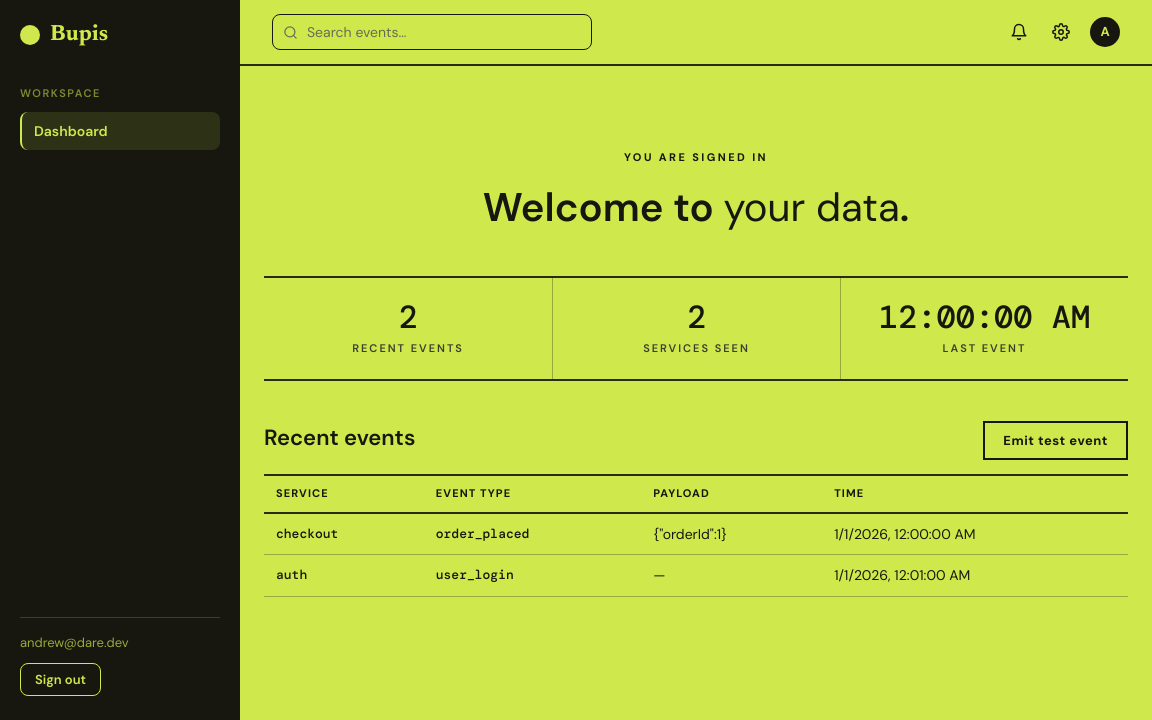
Test case: Dashboard › filters the events table by search query (service or event type)
Check: the text "checkout" is shown, box [264,513,424,555]
Type "login" into the search field with placeholder "Search events…" at (432, 32), box [272,14,592,50]
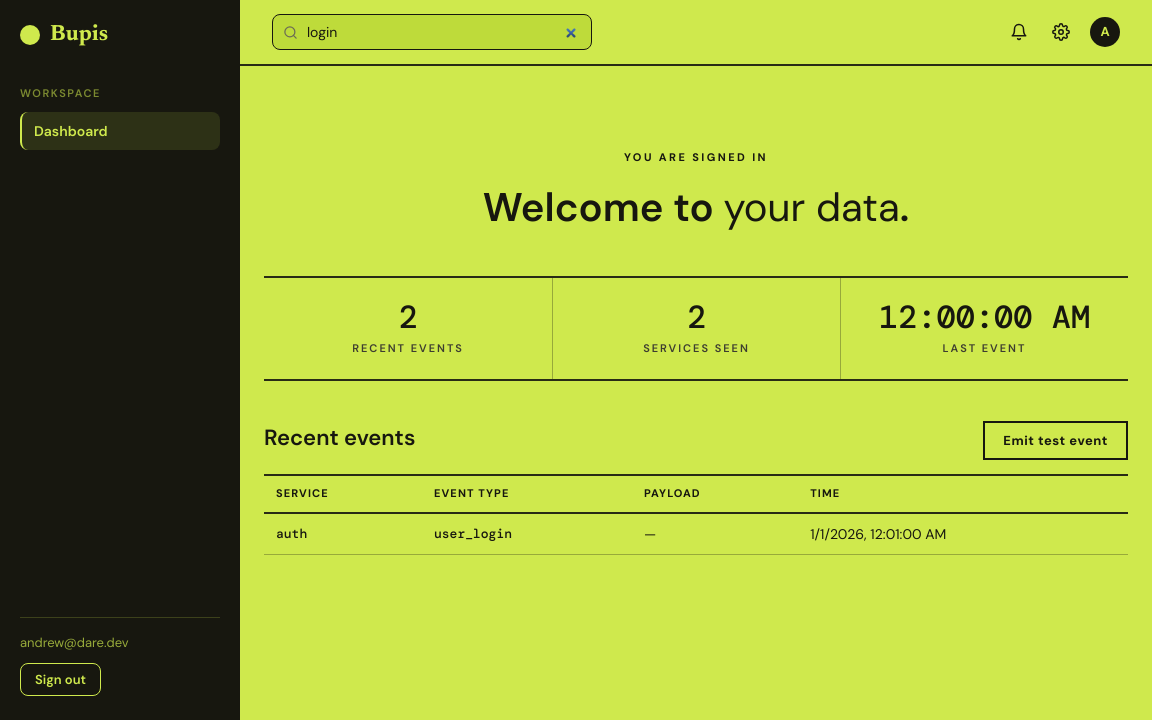
Check: the text "auth" is shown, box [264,513,422,555]
Check: the text "checkout" is gone
